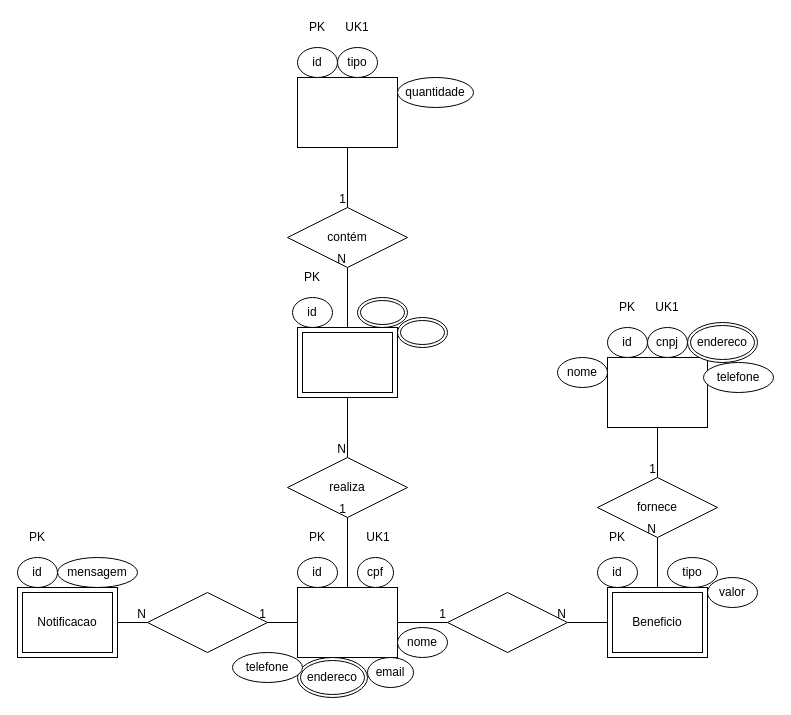
This 791x715 diagram has some shape labels left out. Here are the shapes that lost their labels. From the top down, the centre of each, then its label:
At (347,112): "Sangue".
At (382,312): "data".
At (422,332): "local".
At (347,362): "Doacao".
At (657,392): "Clinica".
At (207,622): "recebe".
At (347,622): "Doador".
At (507,622): "ganha".
